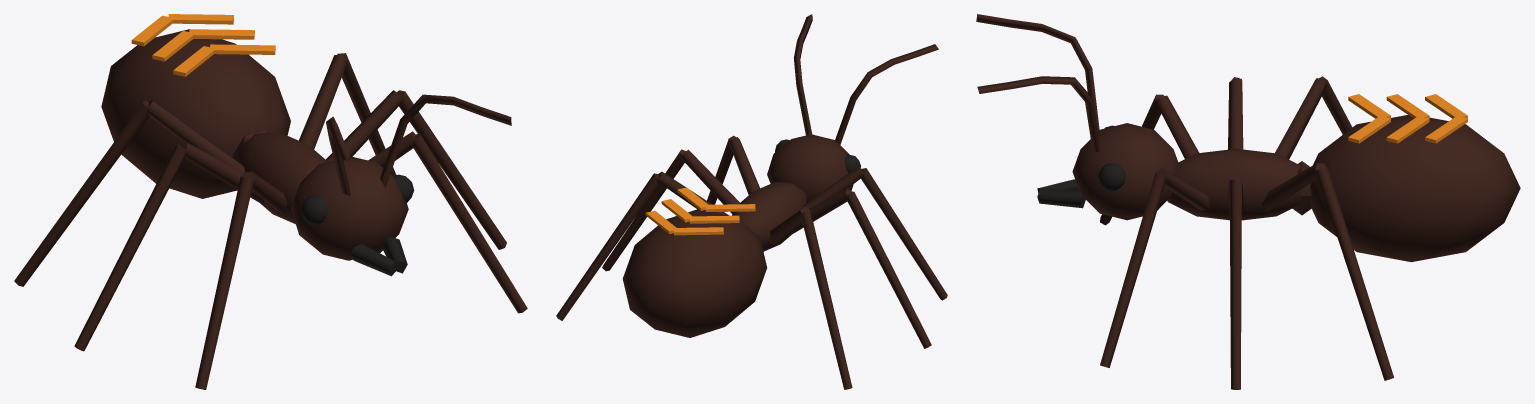
File: ant_colonie.glb
The picture shows the model from 3 angles, left to right: view 1: azimuth 30°, elevation 25°; view 2: azimuth 150°, elevation 25°; view 3: azimuth 270°, elevation 25°; orthographic projection. The views are drawn at different scales.
Visible parts, largest first — view 1: ant, gang_tattoo; view 2: ant, gang_tattoo; view 3: ant, gang_tattoo.
Boxes of the visible parts, x1,y1,x2,y2 form: ant: (14, 29, 527, 389); gang_tattoo: (131, 14, 275, 76); ant: (556, 14, 947, 389); gang_tattoo: (645, 187, 755, 235); ant: (976, 14, 1520, 389); gang_tattoo: (1348, 94, 1467, 143).
Size of the model in its own units: 1.26 by 0.746 by 1.49.
